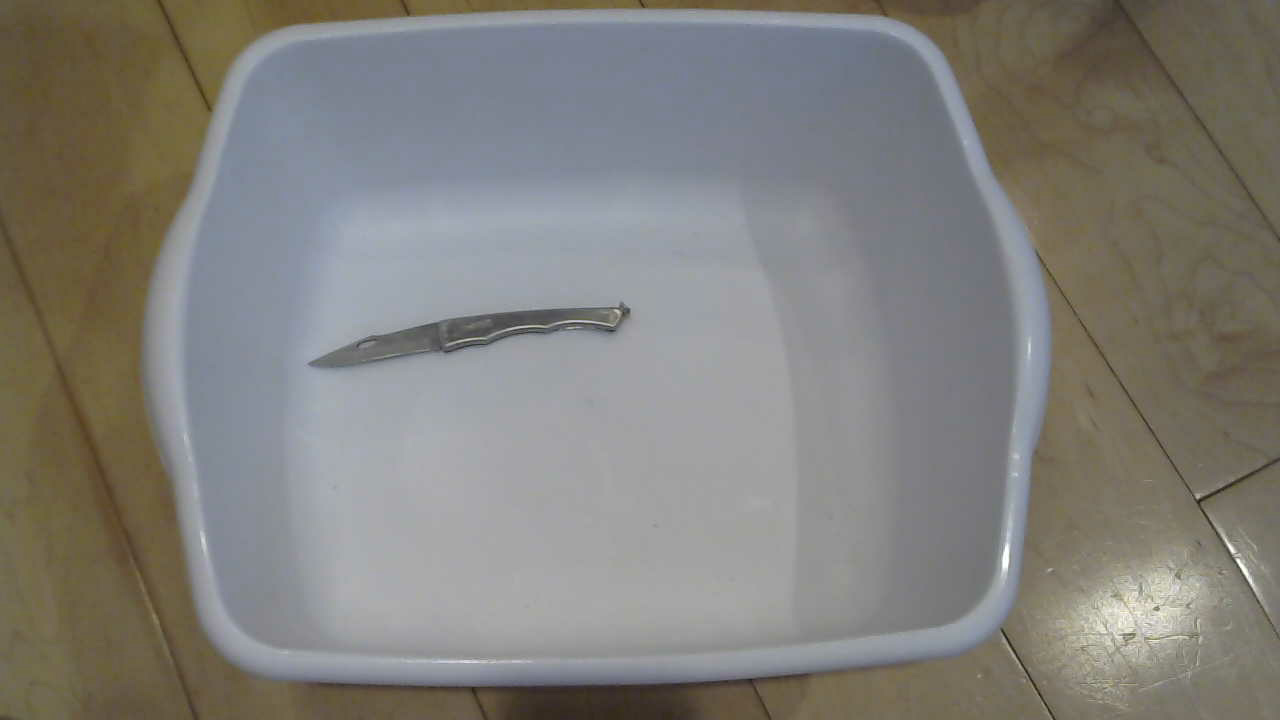knife: (297, 308, 642, 373)
